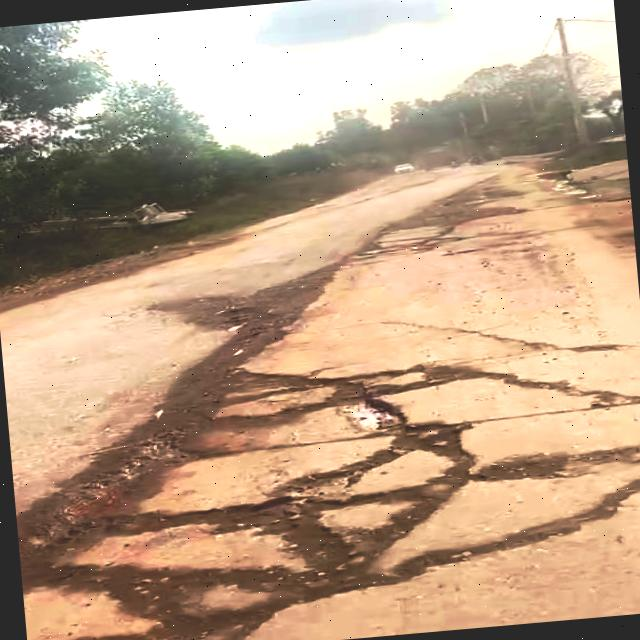pothole: (4, 338, 507, 640), (474, 375, 640, 520)
